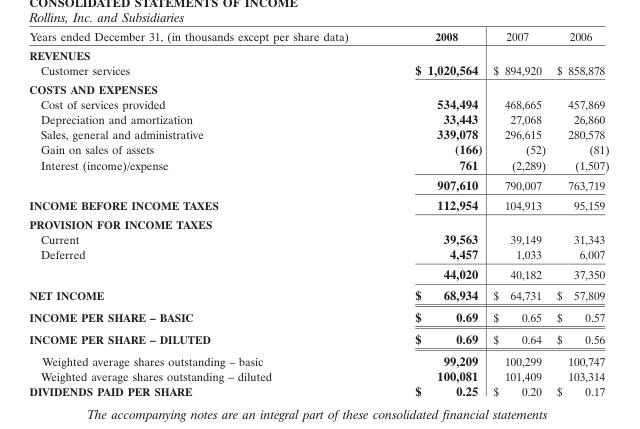table: (28, 28, 608, 398)
table column: (28, 28, 381, 398), (381, 28, 487, 398), (487, 28, 550, 398), (550, 28, 608, 398)
table column header: (28, 28, 608, 45)
table projected row header: (28, 45, 608, 61), (28, 79, 608, 95), (28, 214, 608, 230)
table row: (28, 305, 608, 327), (28, 327, 608, 349), (28, 263, 608, 284), (28, 284, 608, 305), (28, 174, 608, 194), (28, 194, 608, 214), (28, 349, 608, 368), (28, 61, 608, 79), (28, 156, 608, 174), (28, 28, 608, 45), (28, 246, 608, 263), (28, 45, 608, 61), (28, 79, 608, 95), (28, 95, 608, 111), (28, 214, 608, 230), (28, 230, 608, 246), (28, 111, 608, 126), (28, 126, 608, 141), (28, 141, 608, 156), (28, 368, 608, 383), (28, 383, 608, 398)
